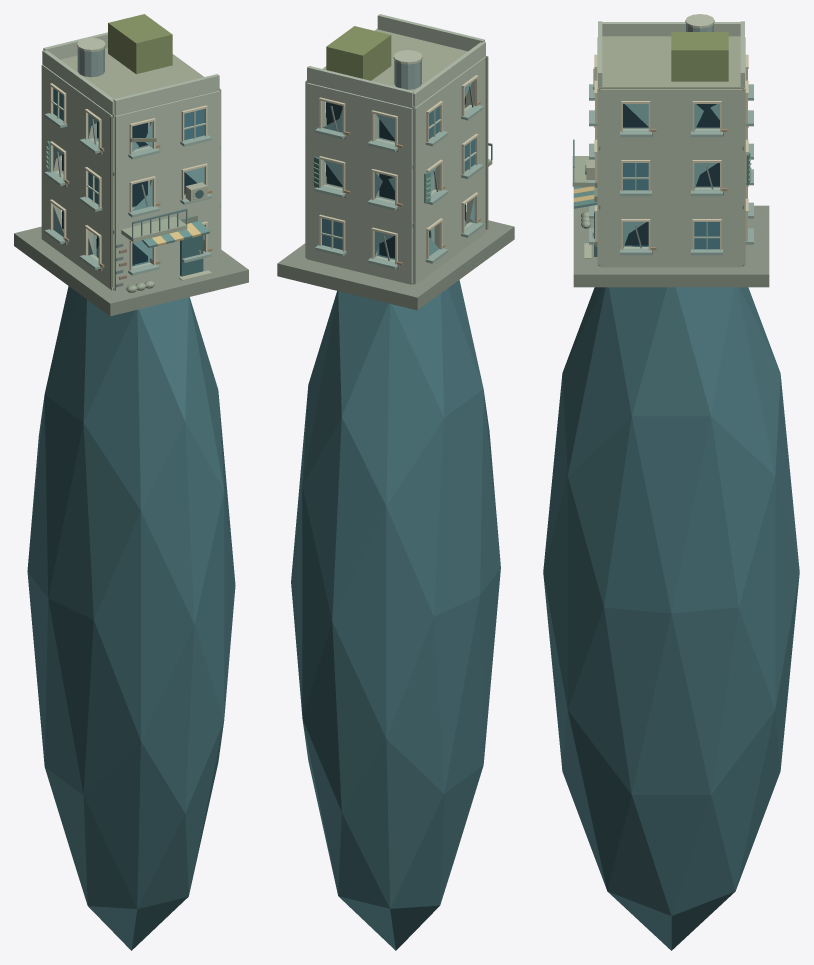
The model's file is house_07.glb.
3 views of the same model, side by side, from view 1: azimuth 30°, elevation 25°; view 2: azimuth 150°, elevation 25°; view 3: azimuth 270°, elevation 25° (orthographic).
Parts seen in each view (by area): view 1: house_07; view 2: house_07; view 3: house_07.
Part boxes in pixels (x1,y1,x2,y2): house_07: (14,14,248,950); house_07: (277,14,514,950); house_07: (543,14,799,950).
Bounding box in the file's own units: 9.6 × 49.92 × 12.6.
